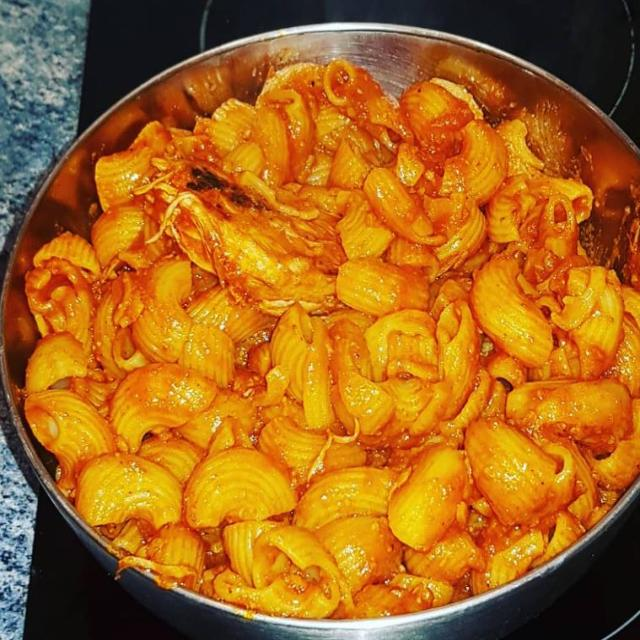Pasta: (38, 28, 640, 582)
